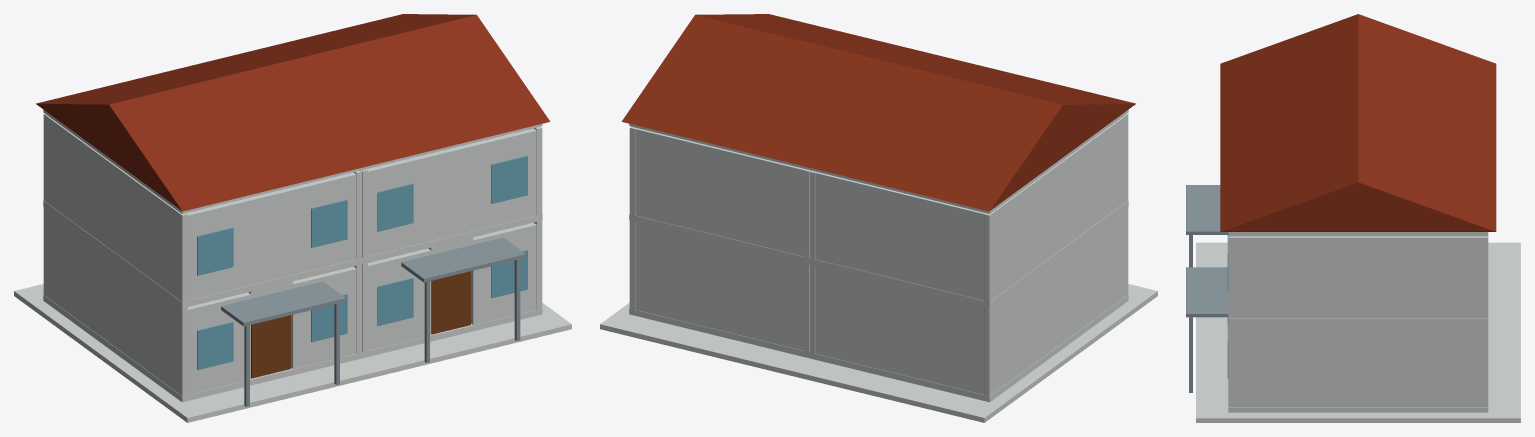
3 views of the same model, side by side, from view 1: azimuth 30°, elevation 25°; view 2: azimuth 150°, elevation 25°; view 3: azimuth 270°, elevation 25° (orthographic). The views are drawn at different scales.
Parts seen in each view (by area): view 1: UNIT_GableRoof.001, UNIT_GableRoof, UNIT_SideWall, FRONT_UpperWall.001, FRONT_UpperWall, SITE, ENTRY_Wall.002, ENTRY_Wall.001, ENTRY_Wall, ENTRY_Wall.003, PORCH_Canopy.001, PORCH_Canopy (+20 smaller); view 2: UNIT_GableRoof.001, UNIT_BackWall, UNIT_BackWall.001, UNIT_GableRoof, UNIT_SideWall, SITE, UNIT_Slab.001, UNIT_Slab, UNIT_SideWall.003, UNIT_Slab.003, UNIT_Slab.004, UNIT_SideWall.002 (+3 smaller); view 3: UNIT_SideWall.003, UNIT_GableRoof, UNIT_GableRoof.001, SITE, PORCH_Canopy.001, UNIT_Slab.004, PORCH_Canopy, UNIT_Slab.003, UNIT_Slab.005.
Part boxes in pixels (box(x1,y1,x2,y2)): UNIT_GableRoof.001: box(36, 58, 367, 211); UNIT_GableRoof: box(224, 14, 550, 167); UNIT_SideWall: box(43, 114, 187, 397); FRONT_UpperWall.001: box(366, 128, 536, 256); FRONT_UpperWall: box(186, 172, 356, 300); SITE: box(14, 284, 571, 422); ENTRY_Wall.002: box(368, 248, 431, 350); ENTRY_Wall.001: box(291, 266, 356, 368); ENTRY_Wall: box(188, 292, 250, 394); ENTRY_Wall.003: box(471, 222, 536, 324); PORCH_Canopy.001: box(401, 237, 525, 282); PORCH_Canopy: box(221, 281, 345, 326); UNIT_GableRoof.001: box(809, 58, 1135, 211); UNIT_BackWall: box(813, 172, 987, 394); UNIT_BackWall.001: box(635, 128, 805, 350); UNIT_GableRoof: box(621, 14, 953, 167); UNIT_SideWall: box(984, 114, 1128, 397); SITE: box(600, 284, 1157, 422); UNIT_Slab.001: box(809, 200, 1128, 308); UNIT_Slab: box(809, 295, 1128, 402); UNIT_SideWall.003: box(629, 126, 635, 311); UNIT_Slab.003: box(629, 308, 809, 358); UNIT_Slab.004: box(629, 214, 809, 263); UNIT_SideWall.002: box(804, 169, 811, 353); UNIT_SideWall.003: box(1228, 236, 1488, 406); UNIT_GableRoof: box(1220, 96, 1496, 231); UNIT_GableRoof.001: box(1220, 14, 1496, 149); SITE: box(1196, 242, 1520, 422); PORCH_Canopy.001: box(1186, 267, 1228, 317); UNIT_Slab.004: box(1228, 318, 1488, 324); PORCH_Canopy: box(1186, 185, 1227, 234); UNIT_Slab.003: box(1228, 407, 1488, 412); UNIT_Slab.005: box(1228, 232, 1488, 236).
Size of the model in its own units: 12.8 by 8.05 by 10.3.
